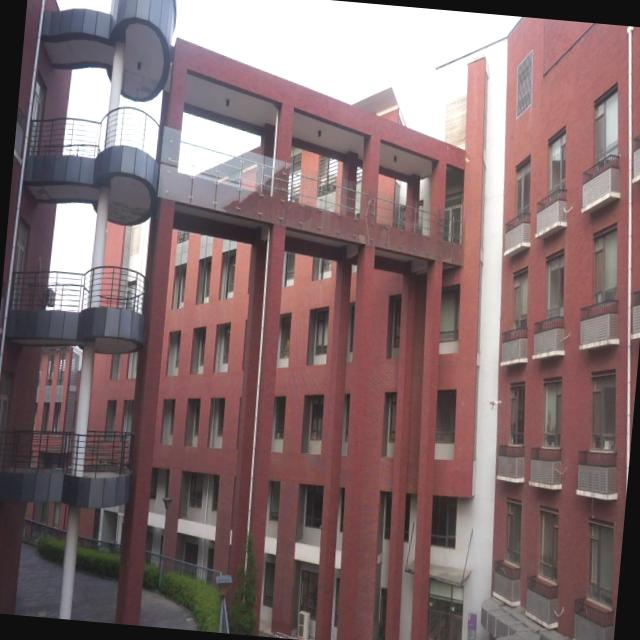drone: (488, 396, 500, 411)
